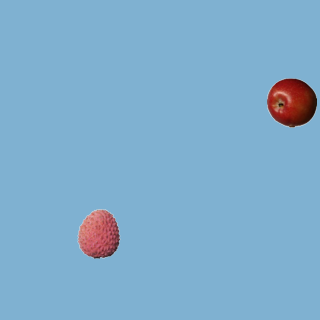Apple Braeburn: (266, 77, 316, 127)
Lychee: (73, 208, 123, 258)
